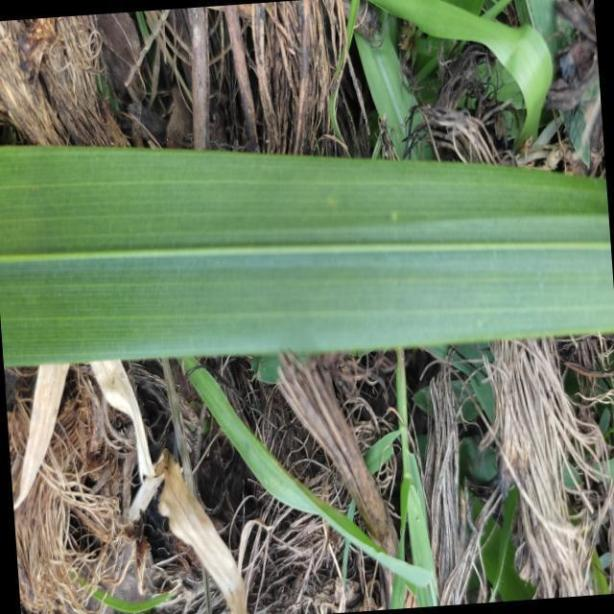Healthy: (0, 146, 614, 364)
